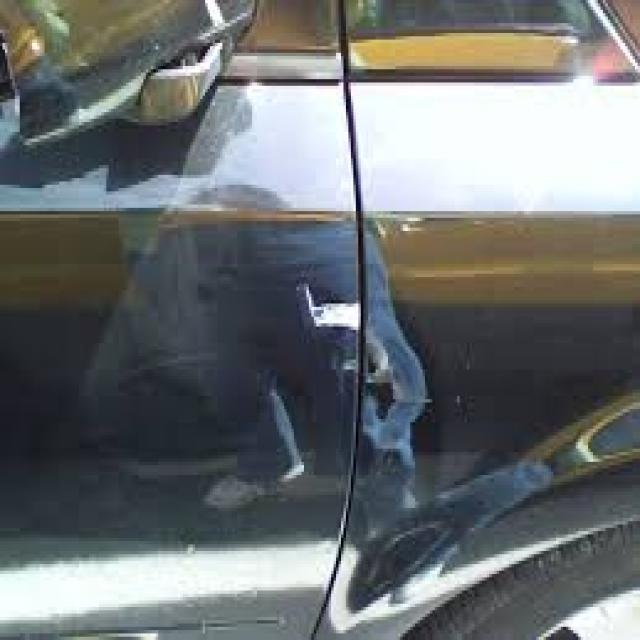minor: (238, 170, 488, 600)
moderate: (0, 1, 309, 140)
